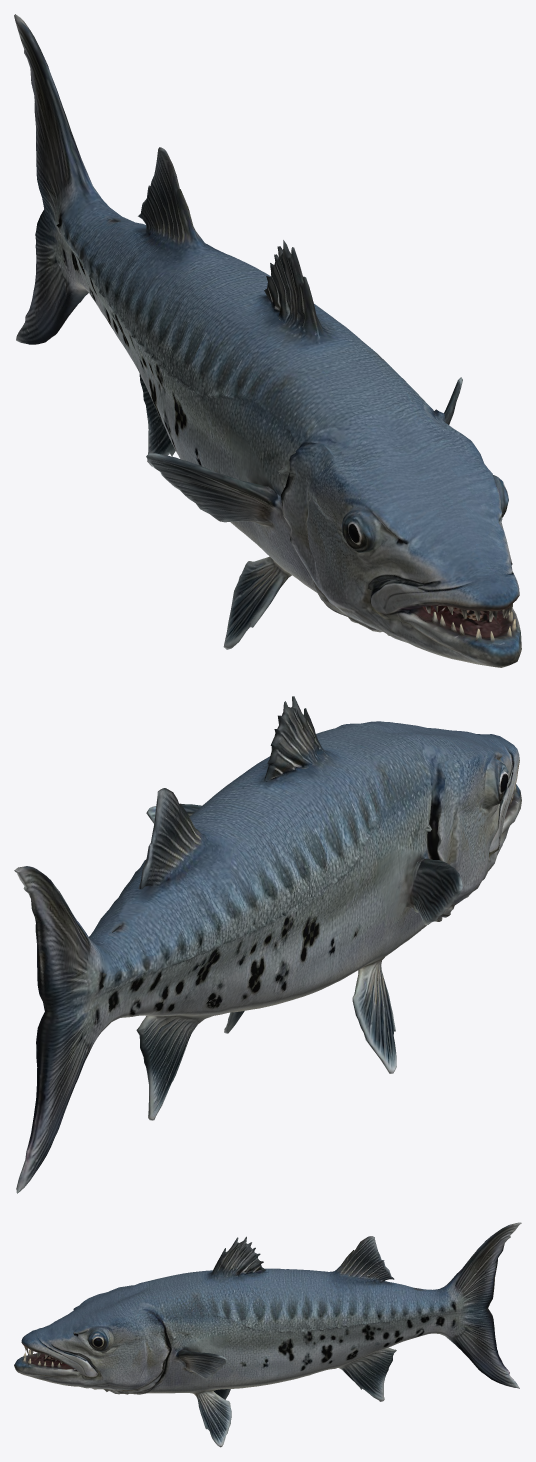
The model's file is barracuda.glb.
3 renders of one model, top to bottom at view 1: azimuth 30°, elevation 25°; view 2: azimuth 150°, elevation 25°; view 3: azimuth 270°, elevation 25°, orthographic. The views are drawn at different scales.
Visible parts, largest first — view 1: tripo_node_5df3ae23-637b-49ce-ab5c-f1aee427879a; view 2: tripo_node_5df3ae23-637b-49ce-ab5c-f1aee427879a; view 3: tripo_node_5df3ae23-637b-49ce-ab5c-f1aee427879a.
Boxes of the visible parts, x1,y1,x2,y2 form: tripo_node_5df3ae23-637b-49ce-ab5c-f1aee427879a: [14, 14, 521, 667]; tripo_node_5df3ae23-637b-49ce-ab5c-f1aee427879a: [14, 696, 521, 1193]; tripo_node_5df3ae23-637b-49ce-ab5c-f1aee427879a: [14, 1222, 521, 1447].
Bounding box in the file's own units: 0.3667 × 0.4438 × 1.
1 material, 1 textured.
